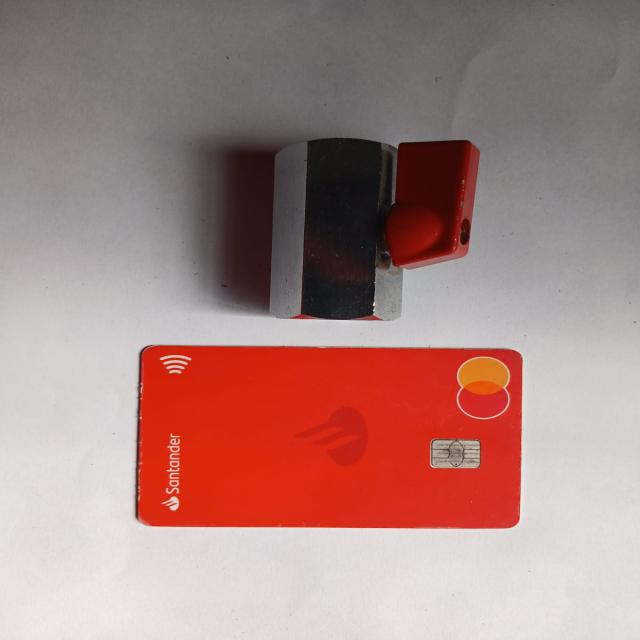cartao: (136, 347, 522, 528)
rosca_interna: (271, 139, 484, 320)
